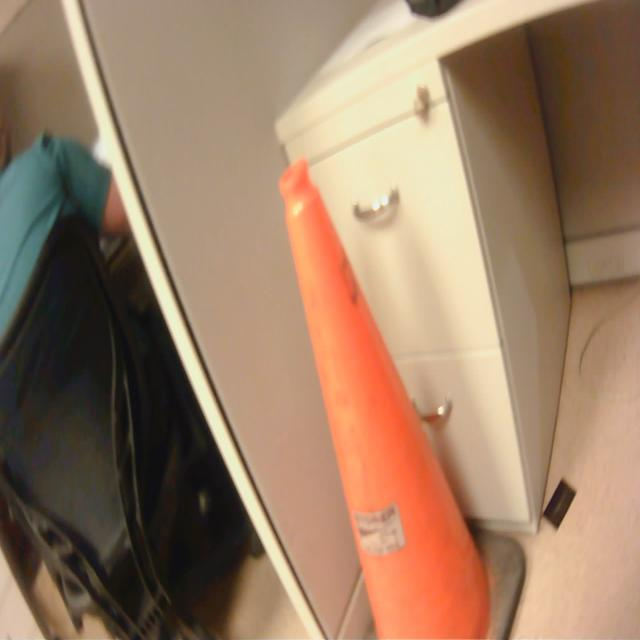traffic cone: (276, 148, 531, 640)
